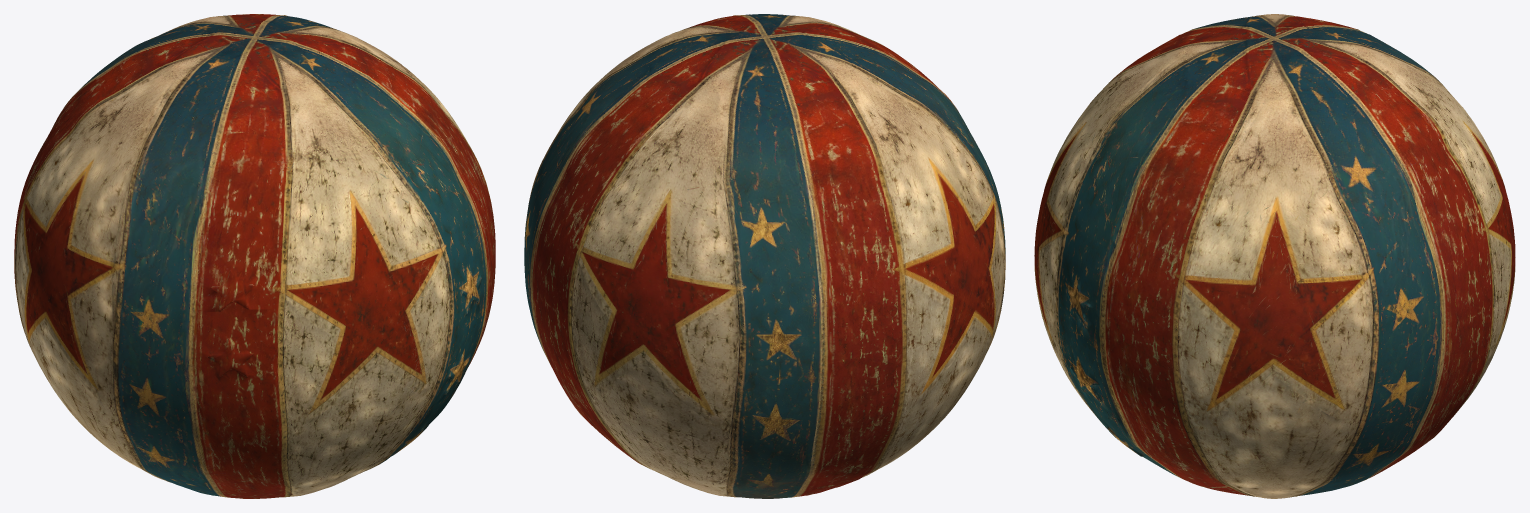
The model's file is Meshy_AI_Weathered_Star_Sphere_0509173819_texture.fbx.
3 renders of one model, left to right at view 1: azimuth 30°, elevation 25°; view 2: azimuth 150°, elevation 25°; view 3: azimuth 270°, elevation 25°, orthographic.
Parts seen in each view (by area): view 1: Mesh_0; view 2: Mesh_0; view 3: Mesh_0.
Part boxes in pixels (box(x1,y1,x2,y2)): Mesh_0: box(14, 14, 495, 498); Mesh_0: box(524, 14, 1005, 498); Mesh_0: box(1034, 14, 1515, 498).
Bounding box in the file's own units: 191 × 191 × 191.
1 material, 1 textured.
